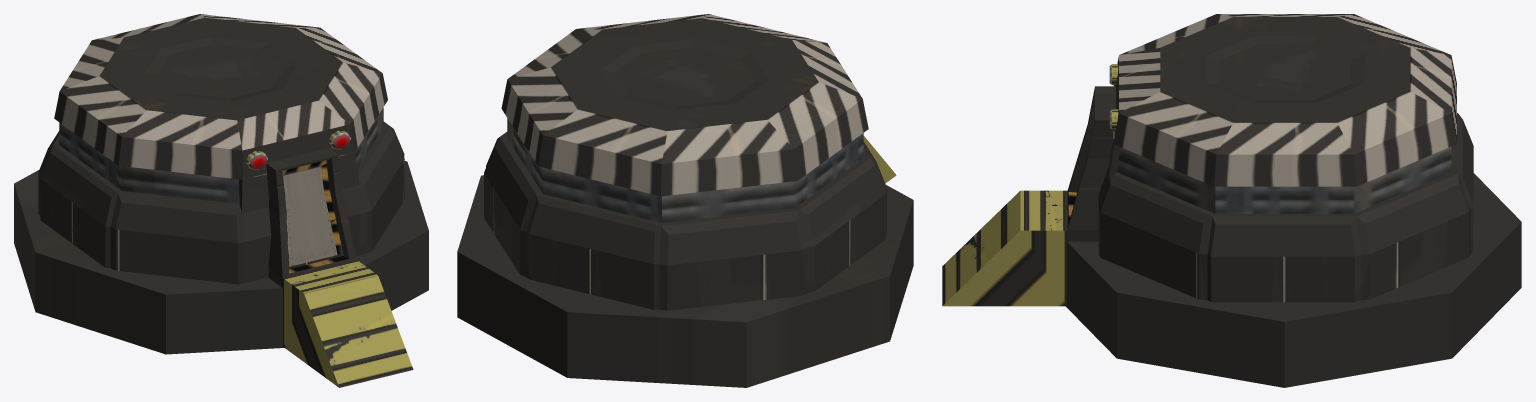
Rendered from bunker.dae.
The picture shows the model from 3 angles, left to right: view 1: azimuth 30°, elevation 25°; view 2: azimuth 150°, elevation 25°; view 3: azimuth 270°, elevation 25°; orthographic projection. The views are drawn at different scales.
Visible parts, largest first — view 1: bunker; view 2: bunker; view 3: bunker.
Part boxes in pixels (x1=…): bunker: x1=14, y1=14, x2=428, y2=387; bunker: x1=457, y1=14, x2=913, y2=387; bunker: x1=942, y1=14, x2=1521, y2=387.
Size of the model in its own units: 19.6 by 23.94 by 9.95.
